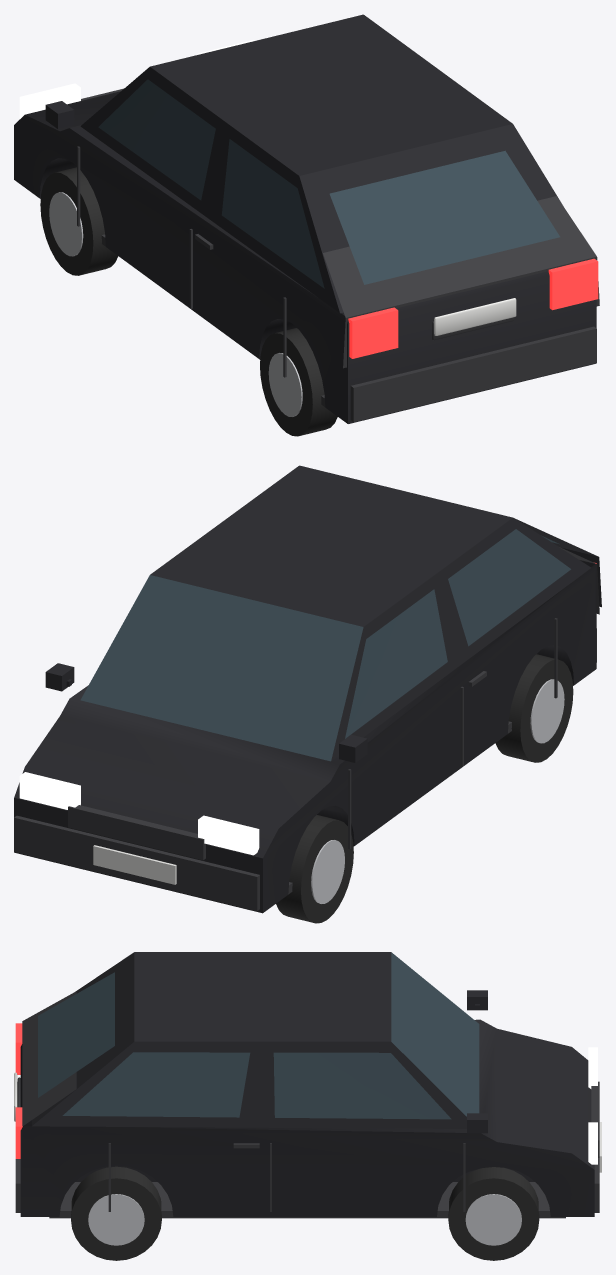
Rendered from lupo.glb.
The picture shows the model from 3 angles, top to bottom: view 1: azimuth 30°, elevation 25°; view 2: azimuth 150°, elevation 25°; view 3: azimuth 270°, elevation 25°; orthographic projection. The views are drawn at different scales.
Visible parts, largest first — view 1: Lupo_Karosserie, Lupo_Heckklappe; view 2: Lupo_Karosserie, Lupo_Heckklappe; view 3: Lupo_Karosserie, Lupo_Heckklappe.
Boxes of the visible parts, box(x1,y1,x2,y2) form: Lupo_Karosserie: box(14, 14, 598, 436); Lupo_Heckklappe: box(323, 150, 599, 368); Lupo_Karosserie: box(14, 465, 596, 923); Lupo_Heckklappe: box(514, 518, 601, 614); Lupo_Karosserie: box(15, 952, 601, 1260); Lupo_Heckklappe: box(14, 972, 114, 1126).
Bounding box in the file's own units: 1.89 × 1.42 × 3.61.
